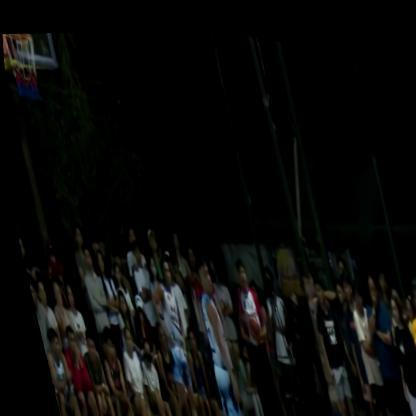basketball: (241, 304, 263, 341)
rim: (1, 28, 50, 118)
